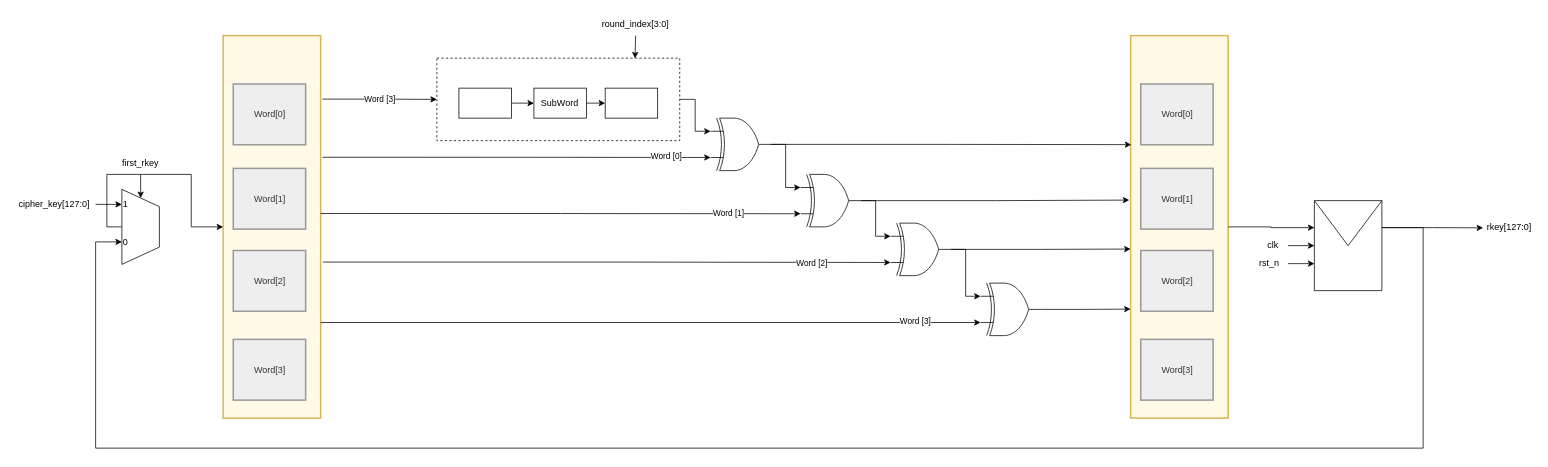
Some shapes in this 1548 by 467 pixel diagram are drawn without their labels. Each missing label, with the box of its shape:
AddRcon: (604, 87, 658, 118)
RotWord: (458, 87, 511, 118)
round_key[i+1]: (1130, 34, 1228, 418)
round_key[i]: (222, 34, 321, 418)
